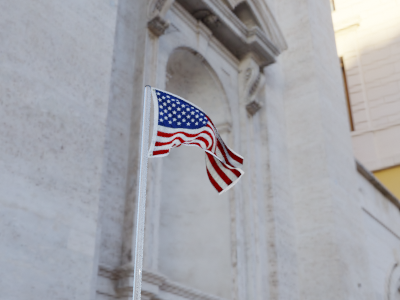America flag: (150, 87, 245, 196)
